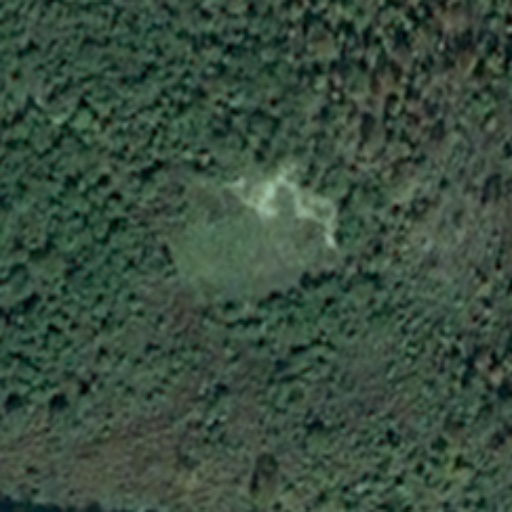landslide: (219, 170, 349, 237)
